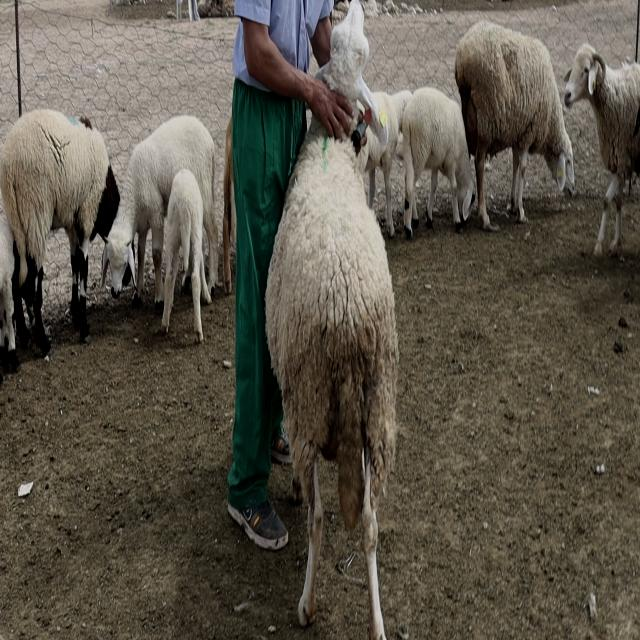Score_3: (266, 130, 398, 639)
